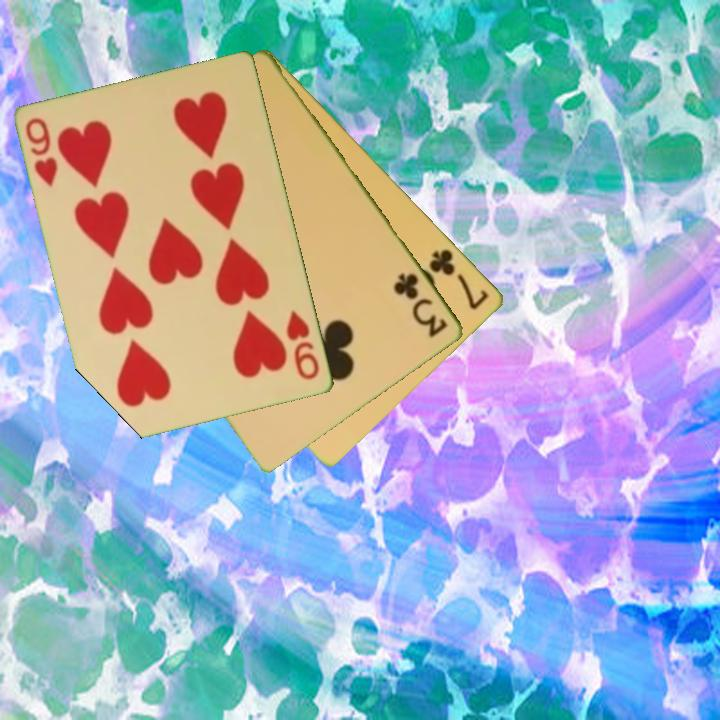3c: (390, 269, 451, 341)
7c: (426, 245, 493, 313)
9h: (283, 307, 323, 383), (22, 114, 61, 191)
